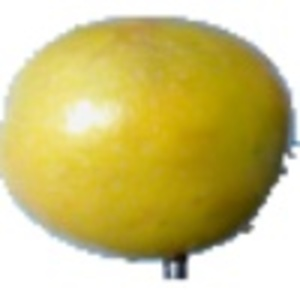maracujá: (1, 14, 300, 282)
